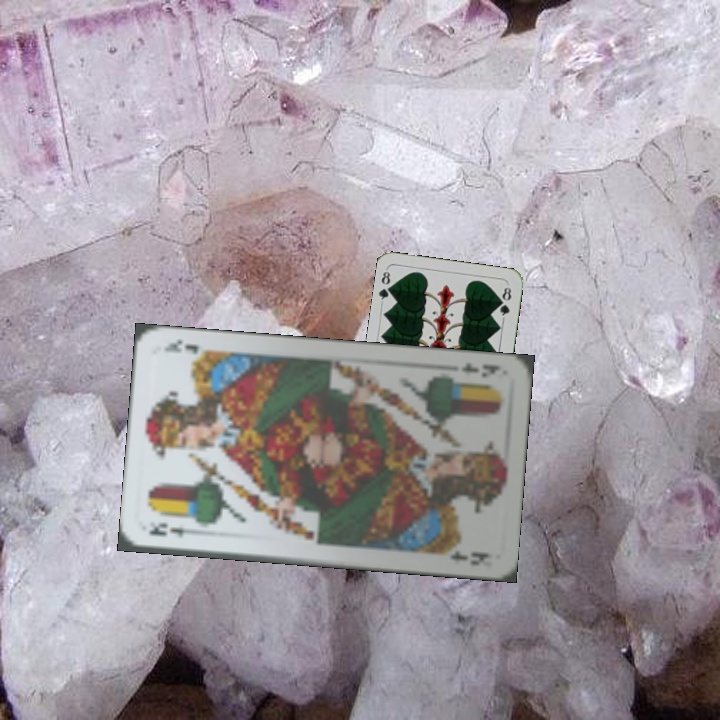EK: (144, 518, 203, 541), (457, 359, 503, 380)
G8: (375, 266, 397, 306)
